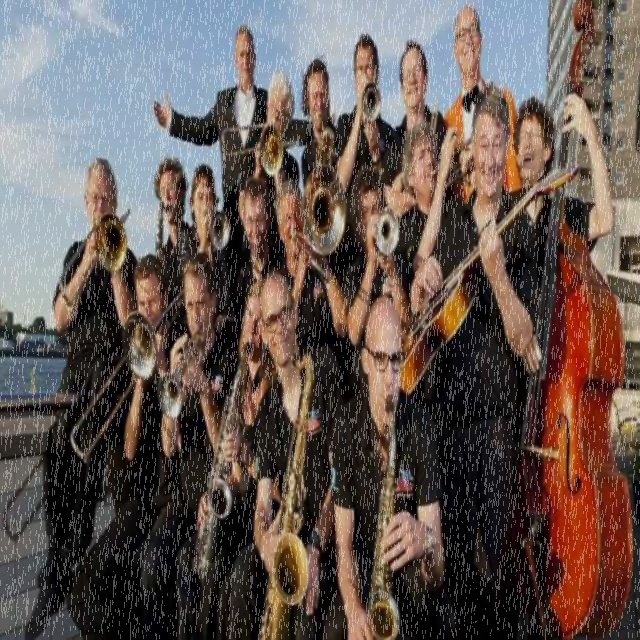pessoa: (408, 79, 541, 639), (22, 154, 146, 638), (322, 293, 462, 639), (152, 23, 338, 277), (228, 267, 350, 638), (82, 253, 185, 639), (178, 272, 286, 638), (142, 248, 234, 639), (506, 90, 616, 312), (220, 69, 300, 287), (442, 5, 524, 205), (333, 31, 400, 274), (344, 165, 412, 396), (390, 120, 468, 318), (272, 179, 347, 351), (152, 156, 191, 370), (232, 176, 290, 316), (187, 162, 233, 326), (392, 41, 448, 163), (300, 56, 338, 190)
